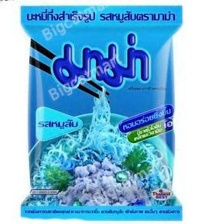snack: (13, 0, 191, 224)
